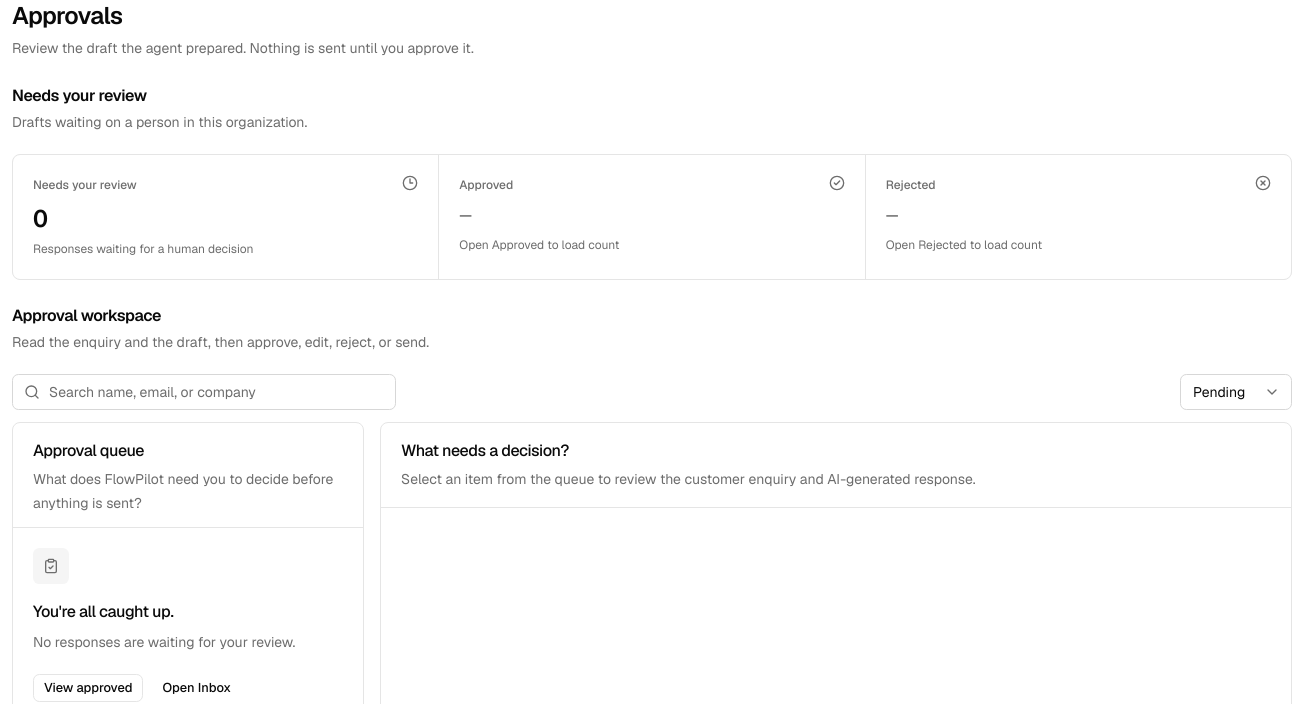
Approvals page › distinguishes search results with no matches
Expected: the heading "You're all caught up." is shown, [33,600,173,624]
In the search field named "Search approvals": coordinates (204, 392) [12,374,396,410], type "missing"
Wait 350 ms
(page scrolled)
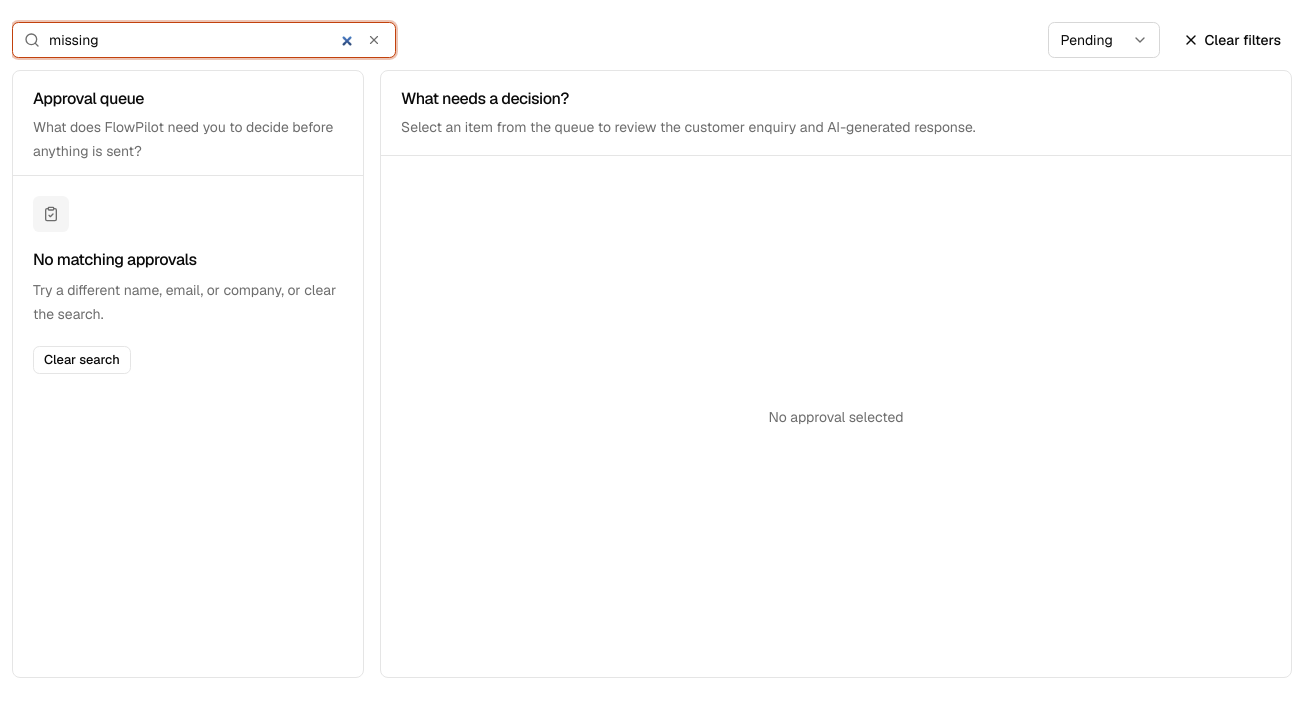
Expected: the heading "No matching approvals" is shown, [33,248,197,272]
Expected: the text "Try a different name, email, or company" is shown, [33,281,336,323]
Expected: the button "Clear search" is shown, [33,346,131,374]
